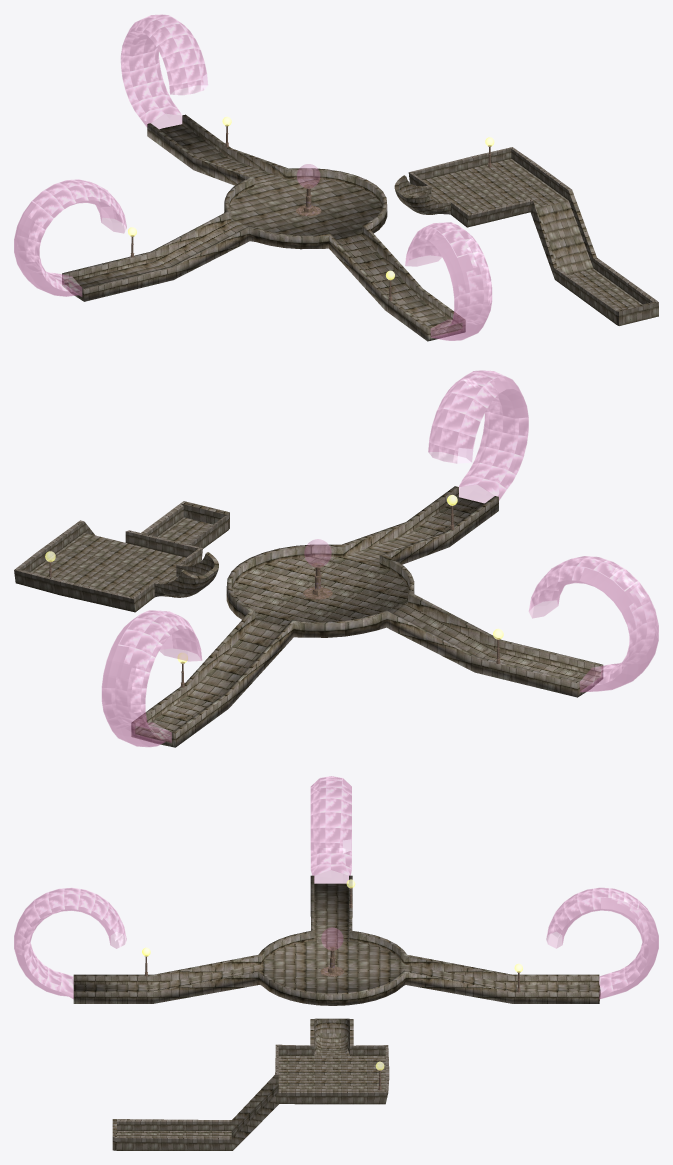
Rendered from loops.gltf.
The picture shows the model from 3 angles, top to bottom: view 1: azimuth 30°, elevation 25°; view 2: azimuth 150°, elevation 25°; view 3: azimuth 270°, elevation 25°; orthographic projection. The views are drawn at different scales.
Visible parts, largest first — view 1: Platform2-col, Platform1-col, Loop1-col, Loop1-col.001, Loop1-col.002; view 2: Platform2-col, Platform1-col, Loop1-col.001, Loop1-col, Loop1-col.002, StrLmp1_Lamp.001-col; view 3: Platform2-col, Platform1-col, Loop1-col, Loop1-col.001, Loop1-col.002.
Boxes of the visible parts, bbox=[...] form: Platform2-col: bbox=[62, 114, 465, 341]; Platform1-col: bbox=[394, 147, 658, 325]; Loop1-col: bbox=[121, 14, 207, 128]; Loop1-col.001: bbox=[405, 222, 491, 340]; Loop1-col.002: bbox=[14, 179, 126, 296]; Platform2-col: bbox=[131, 486, 603, 747]; Platform1-col: bbox=[14, 501, 229, 612]; Loop1-col.001: bbox=[428, 370, 528, 502]; Loop1-col: bbox=[102, 610, 201, 746]; Loop1-col.002: bbox=[529, 556, 658, 691]; StrLmp1_Lamp.001-col: bbox=[304, 539, 331, 566]; Platform2-col: bbox=[73, 875, 600, 1005]; Platform1-col: bbox=[112, 1018, 389, 1150]; Loop1-col: bbox=[546, 888, 658, 998]; Loop1-col.001: bbox=[14, 888, 126, 998]; Loop1-col.002: bbox=[310, 776, 351, 883].
Bounding box in the file's own units: 14.82 × 4.41 × 16.79.
Materials: 4 (3 with a texture image).
